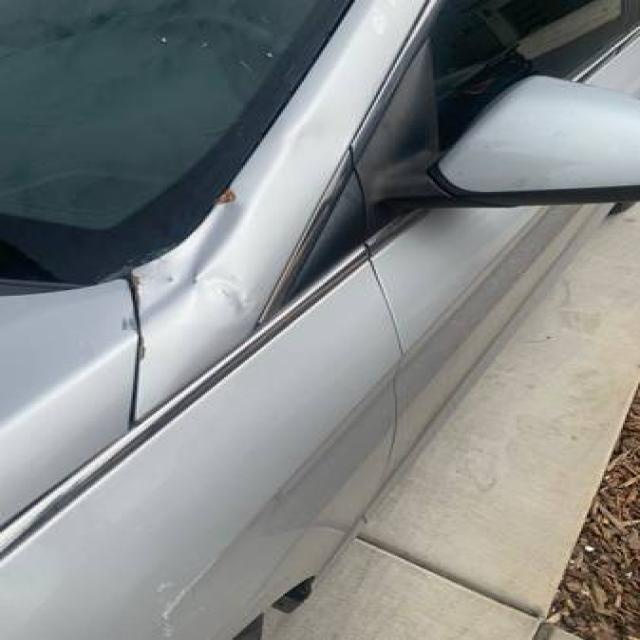dent: (128, 199, 269, 326)
scratch: (122, 316, 148, 360), (129, 271, 140, 288)
